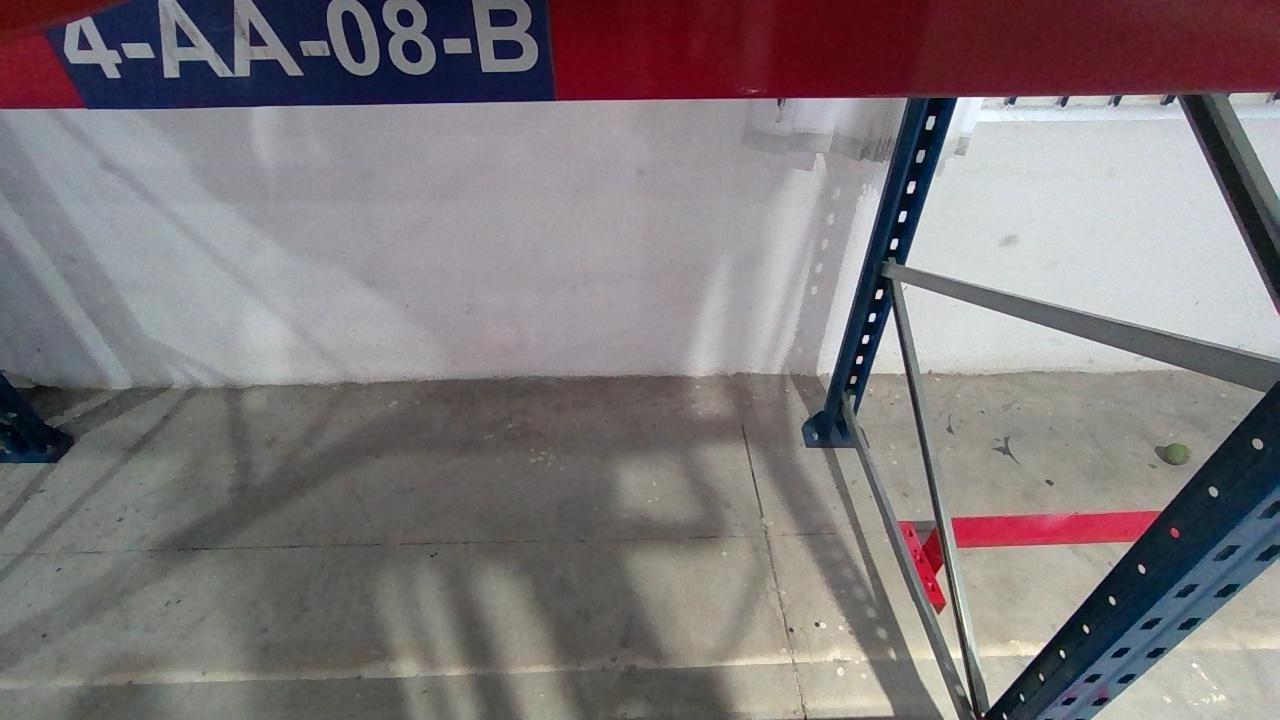h_rack: (1, 0, 1280, 107)
